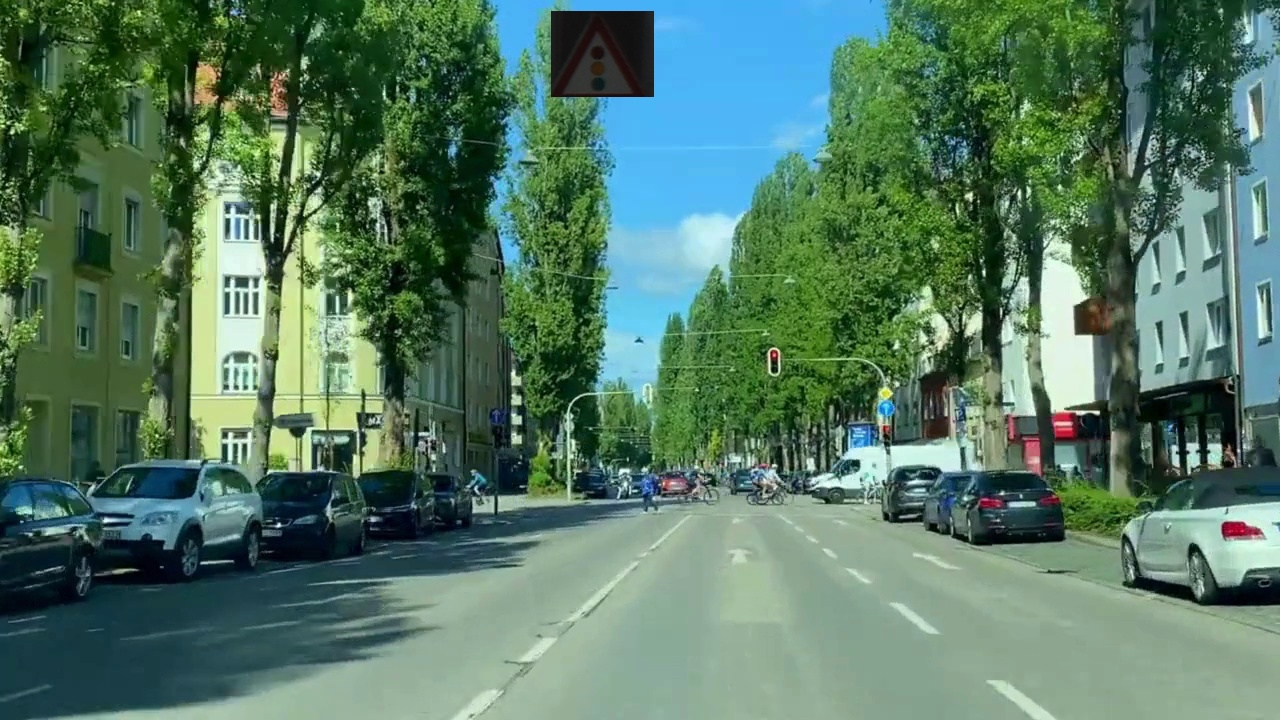Signals: (551, 11, 654, 97)
